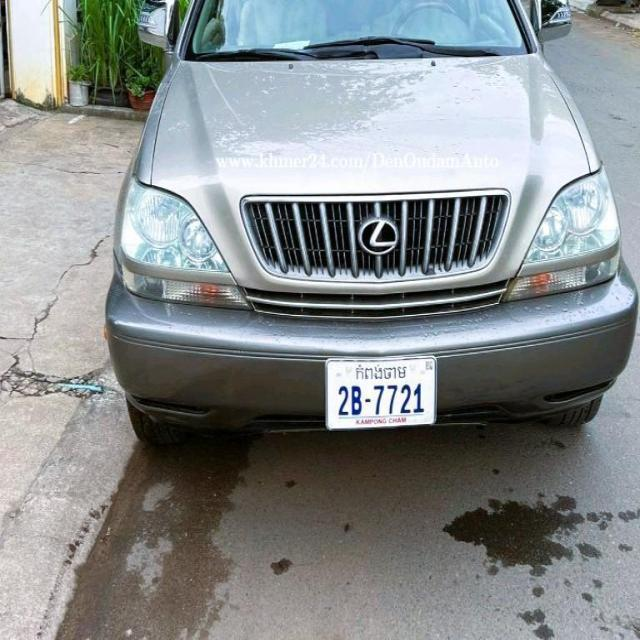Kampong_Cham: (355, 361, 407, 382)
